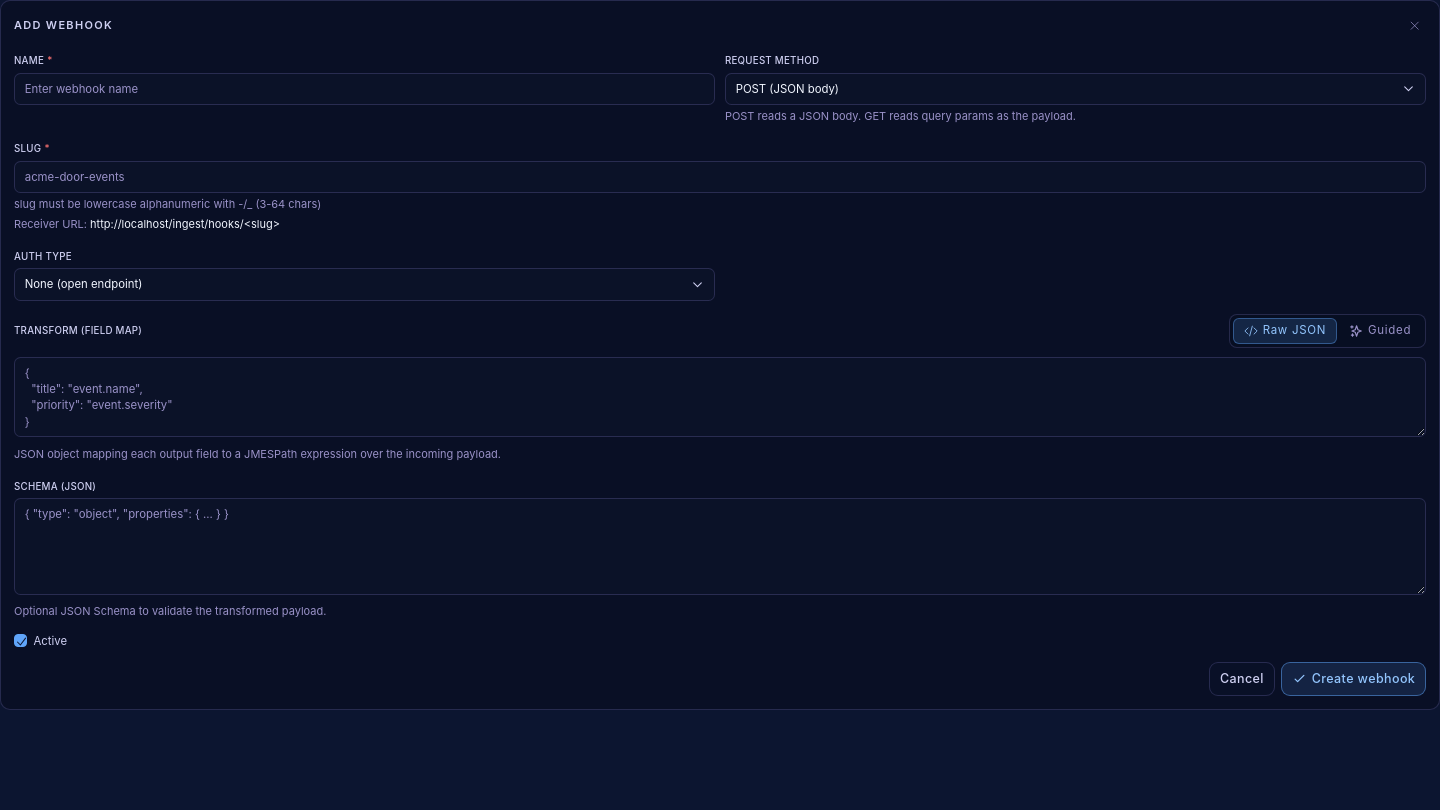
Test: the slug rule, which is the backend's regex verbatim › says the slug is required rather than sending a nameless URL
Type "Acme" into the field with placeholder "Enter webhook name" at (365, 89), box x1=14 y1=72 x2=715 y2=105
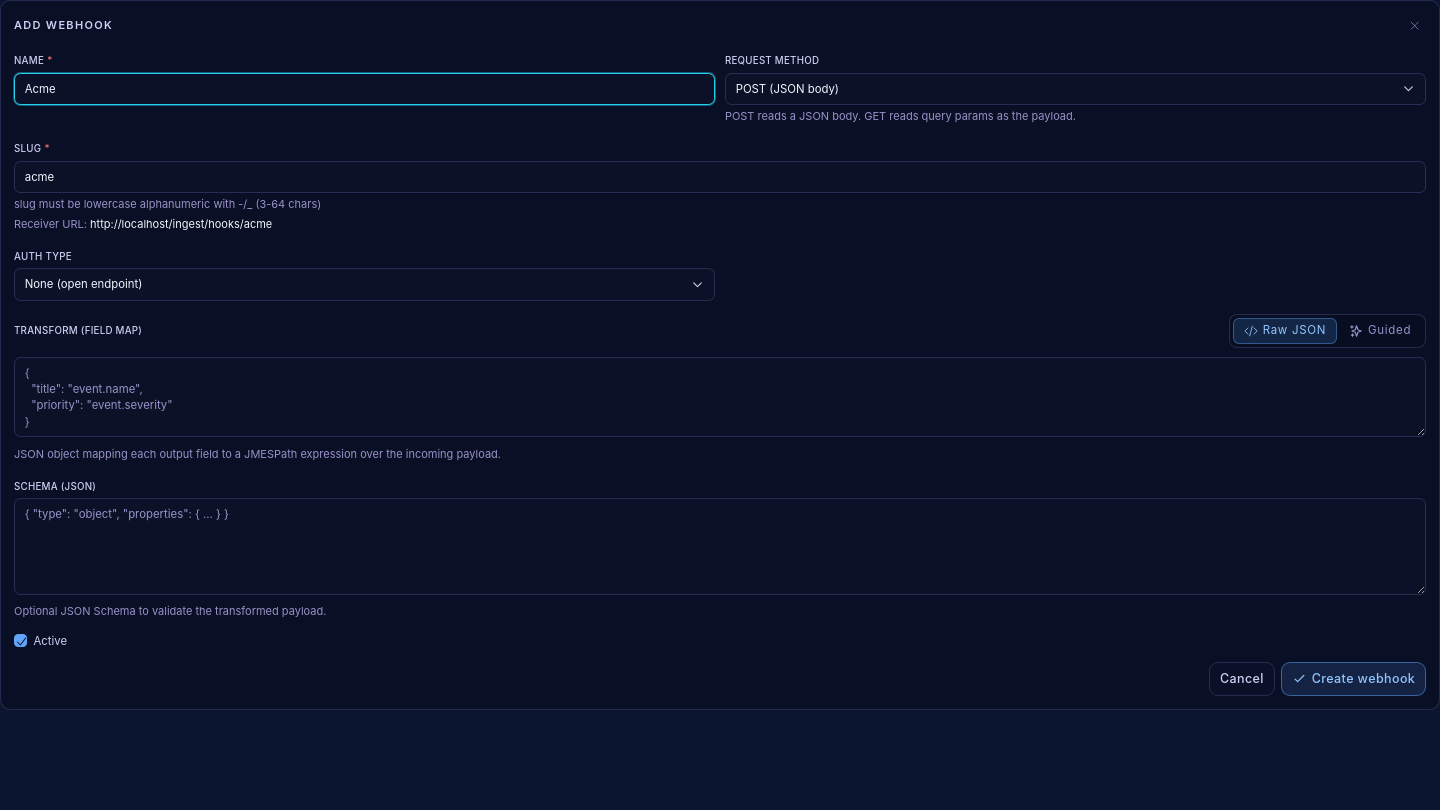
Clear the field with placeholder "acme-door-events" at (720, 177), box x1=14 y1=160 x2=1426 y2=193
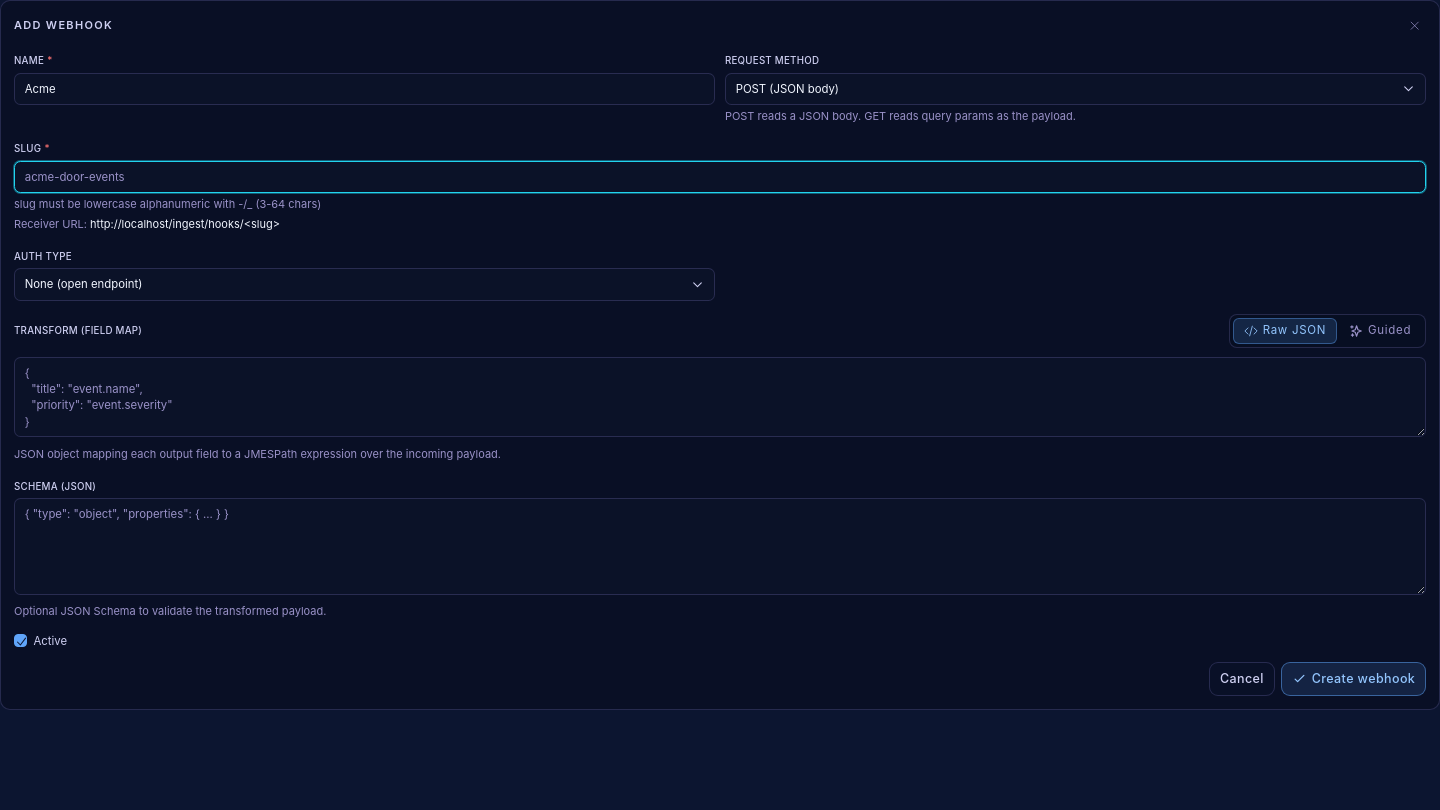
Click the button "Create webhook" at (1354, 679), box x1=1281 y1=662 x2=1426 y2=696
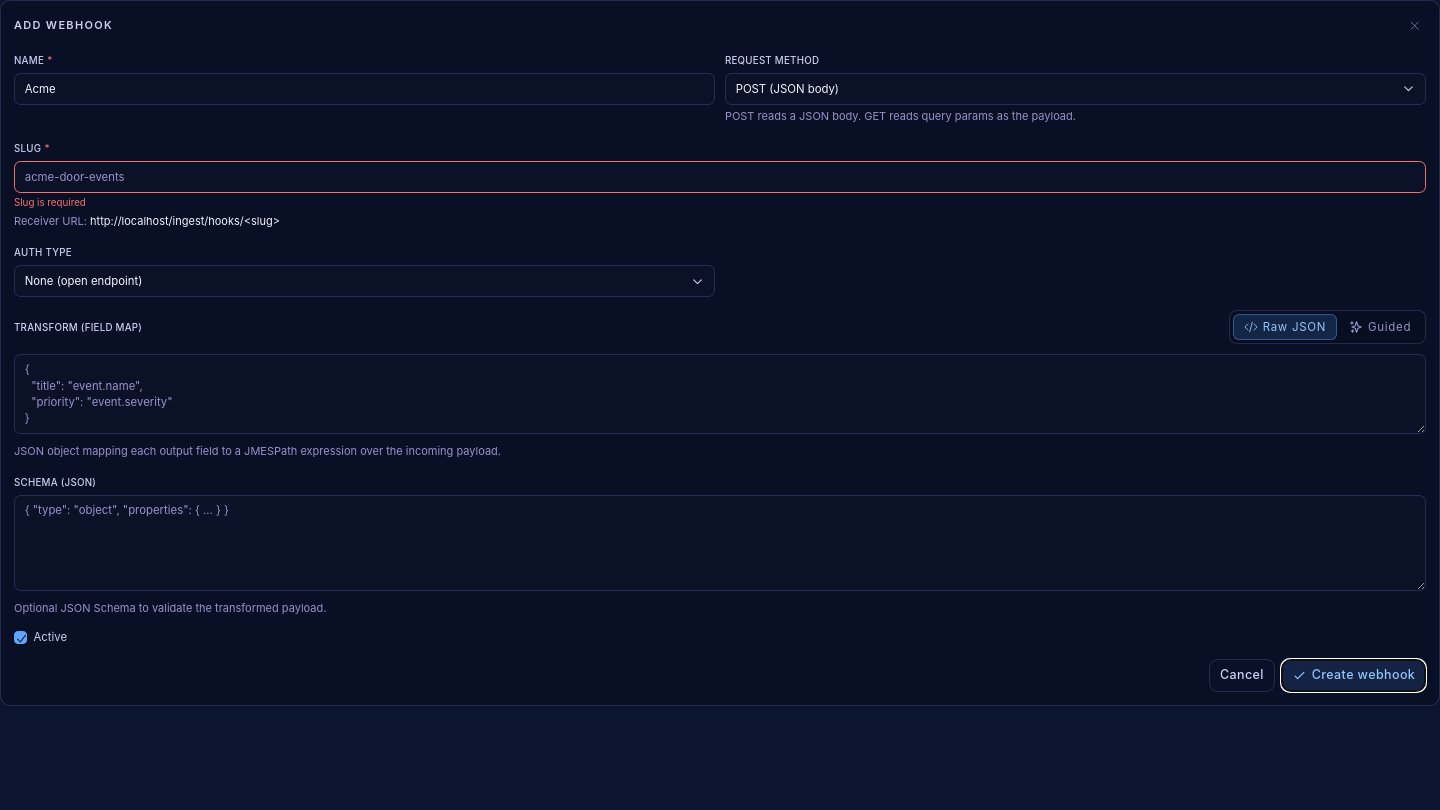
Check: the text "Slug is required" is shown, box x1=14 y1=197 x2=86 y2=208
